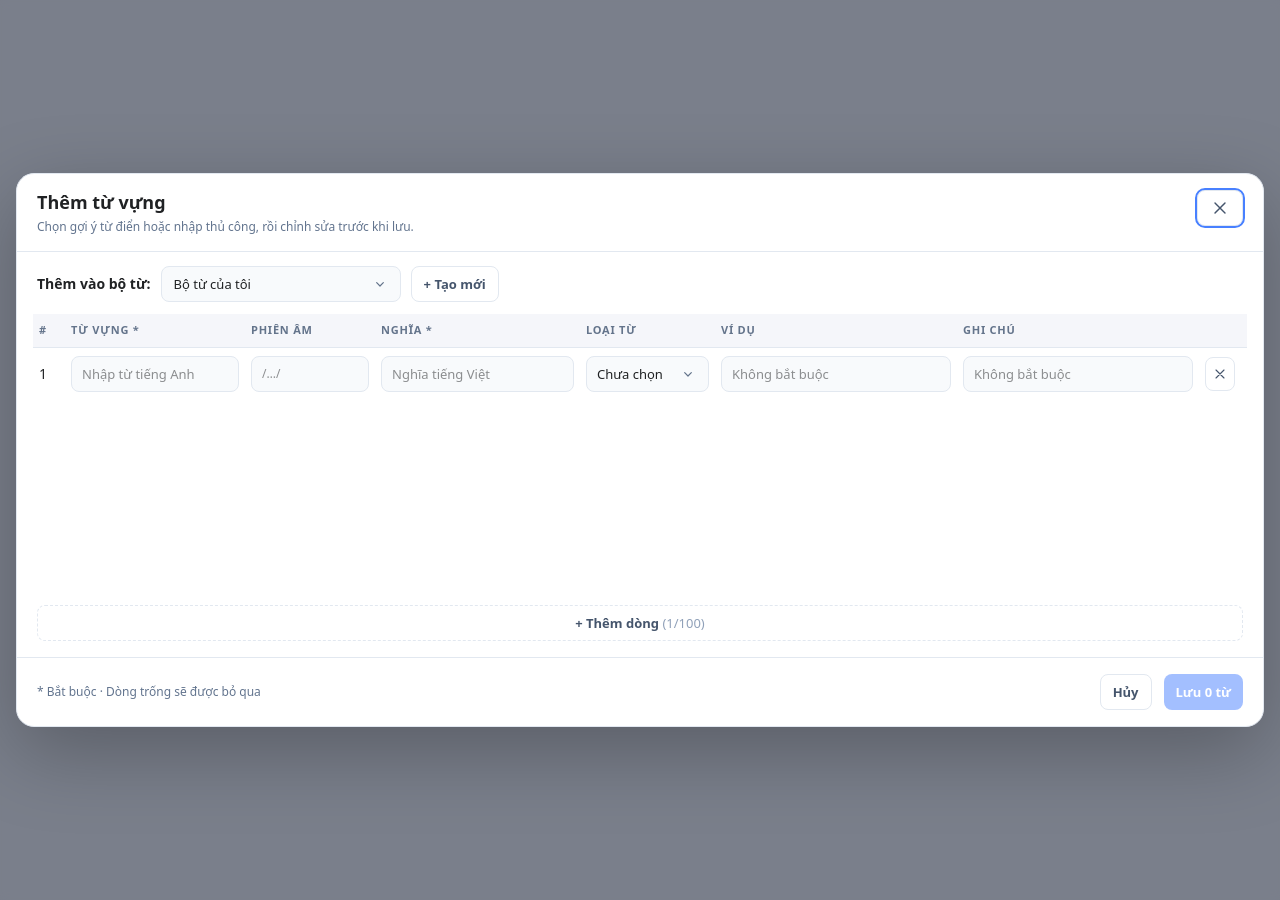
Test case: choosing a term preserves manually entered fields; exact lookup does not use prefix suggestions
Type "Nghĩa tự nhập" into the dropdown named "Nghĩa dòng 1".
click(478, 374); type("Nghĩa tự nhập")  # box [381, 356, 574, 392]
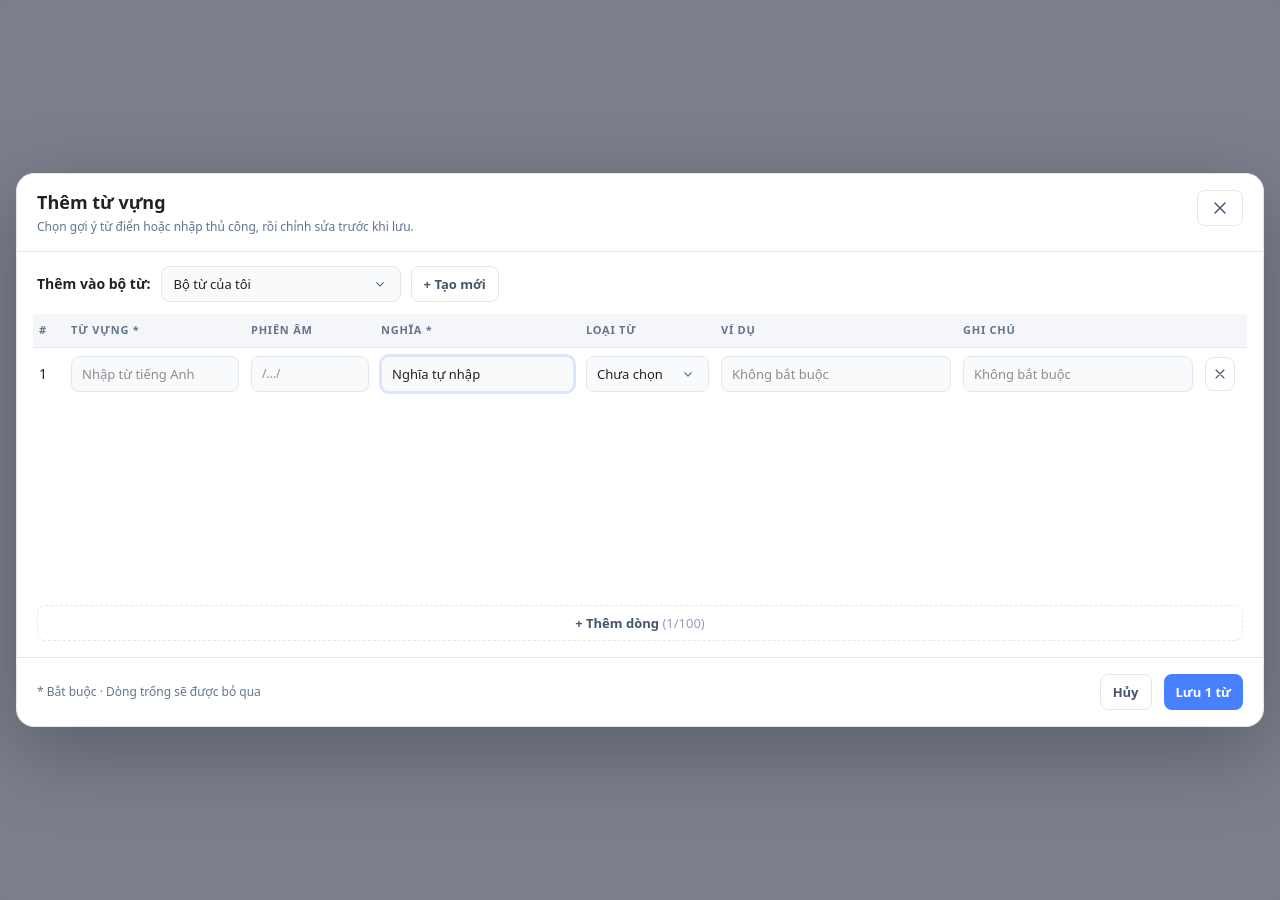
Type "ru" into the dropdown named "Từ vựng dòng 1".
click(155, 374); type("ru")  # box [71, 356, 239, 392]
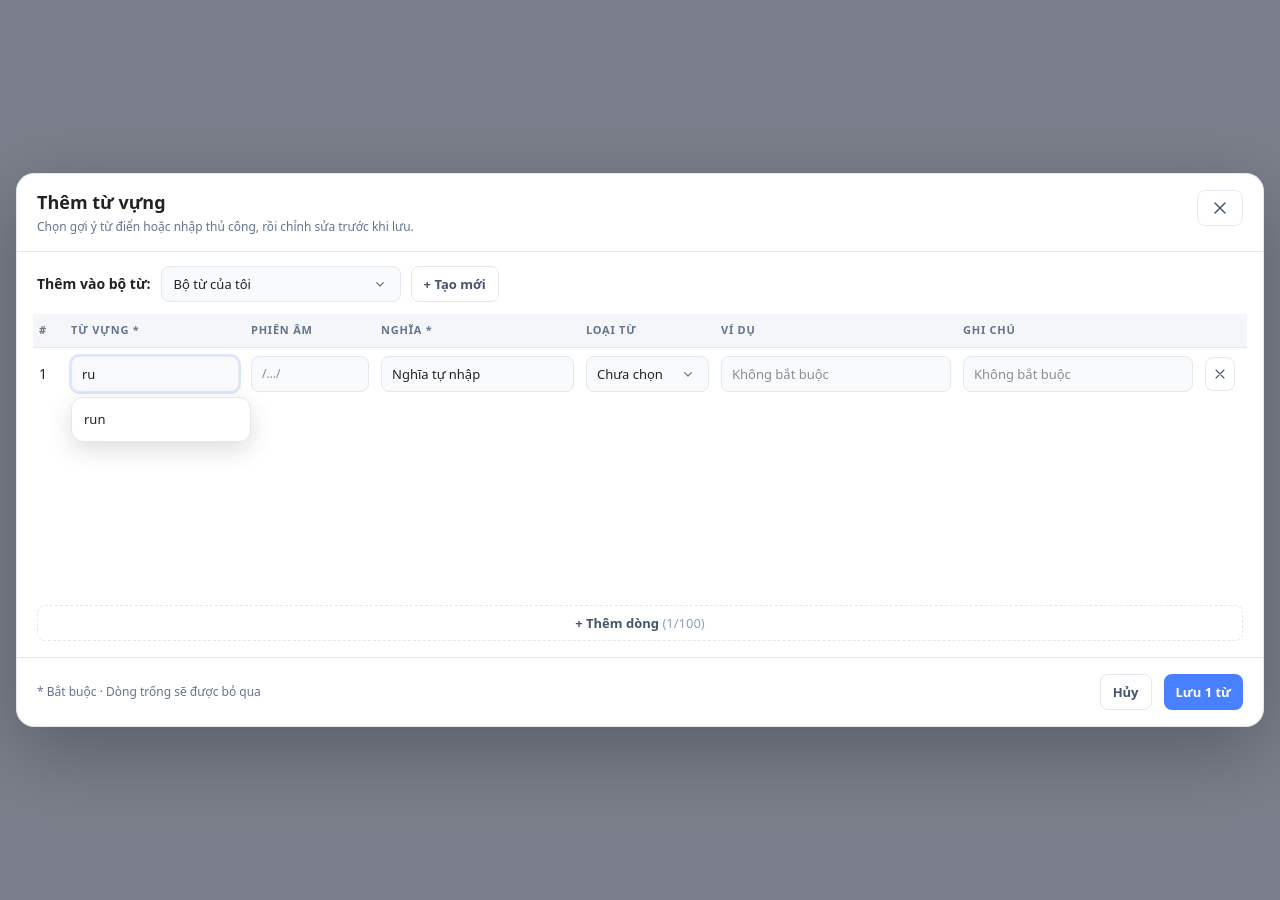
Expected: the option "run" is shown, [72, 398, 250, 441]
Press Arrowdown Enter
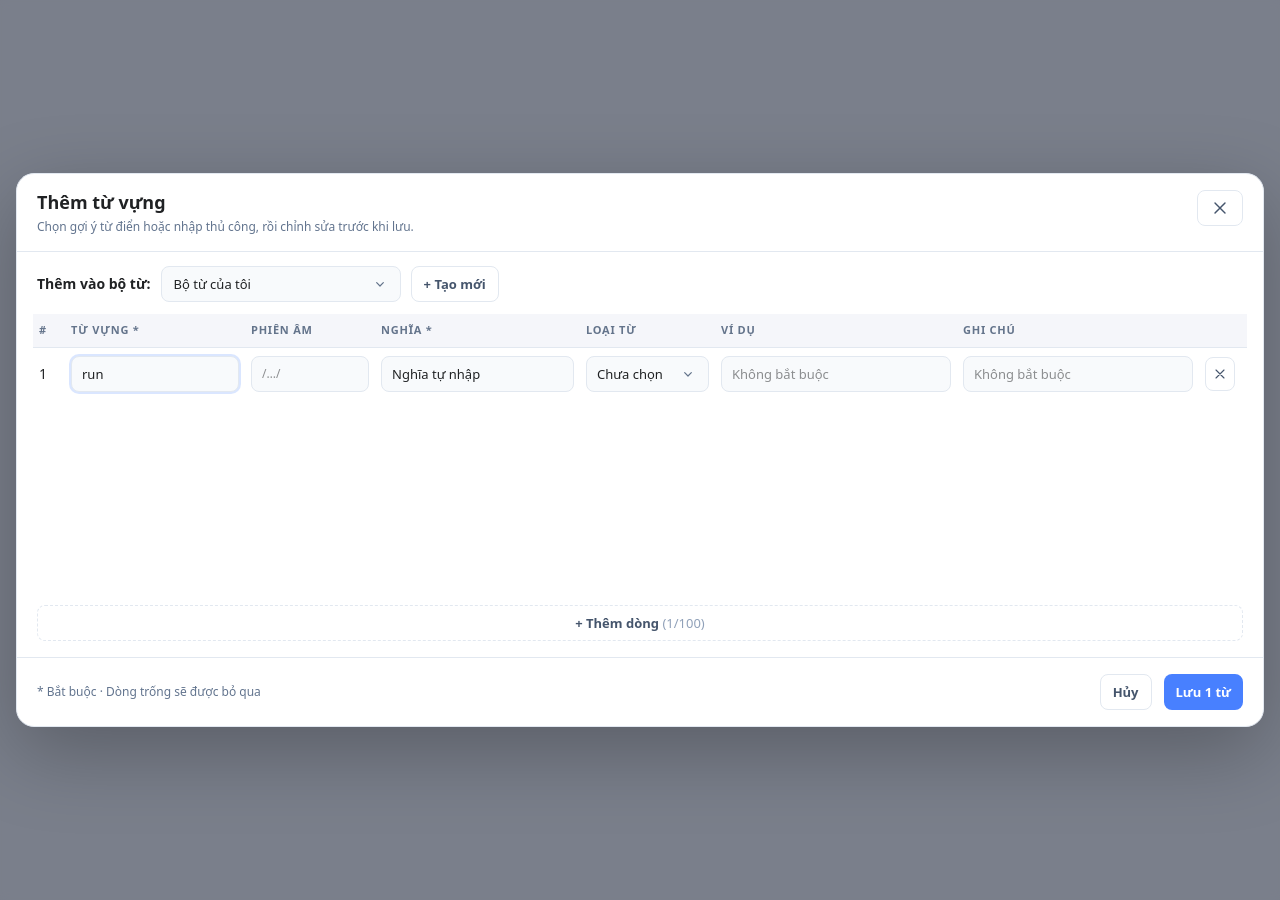
Expected: the dropdown named "Từ vựng dòng 1" holds "run", [71, 356, 239, 392]
Click the dropdown named "Phiên âm dòng 1".
click(310, 374)  # box [251, 356, 369, 392]
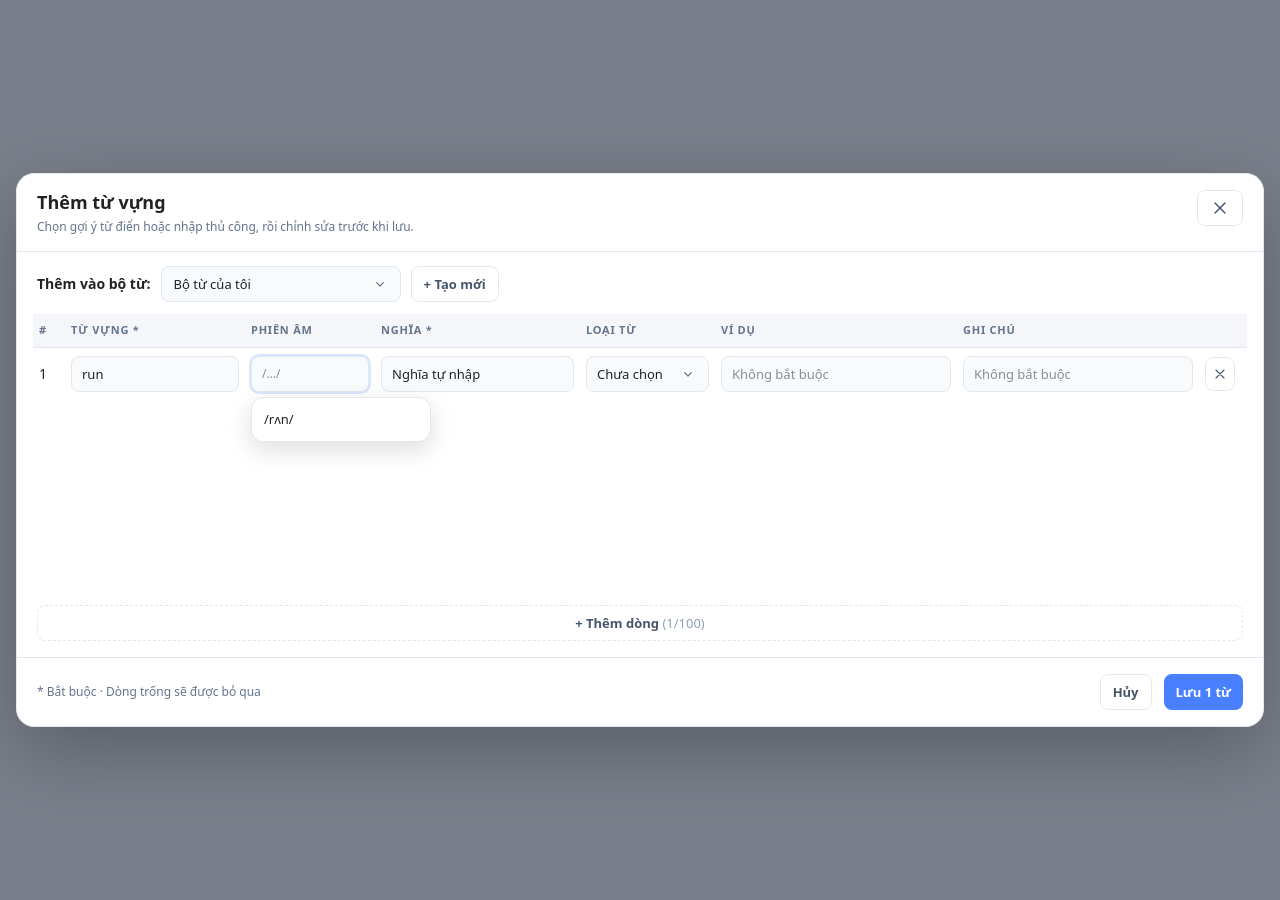
Expected: the option "/rʌn/" is shown, [252, 398, 430, 441]
